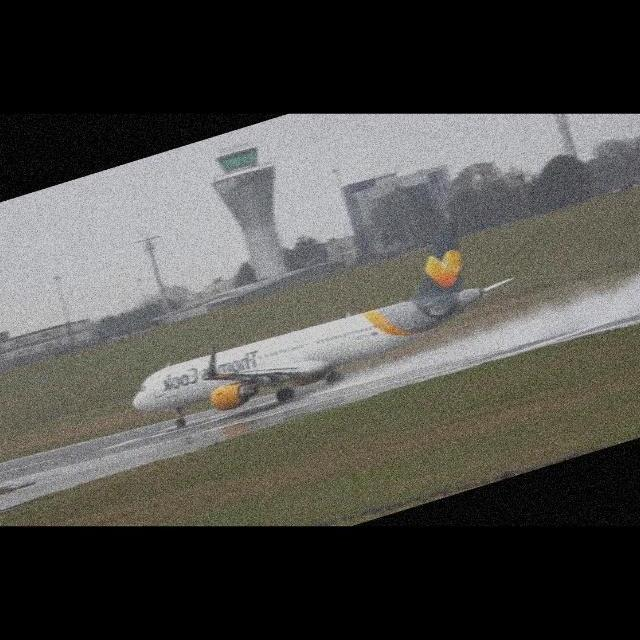airplane: (123, 208, 520, 438)
